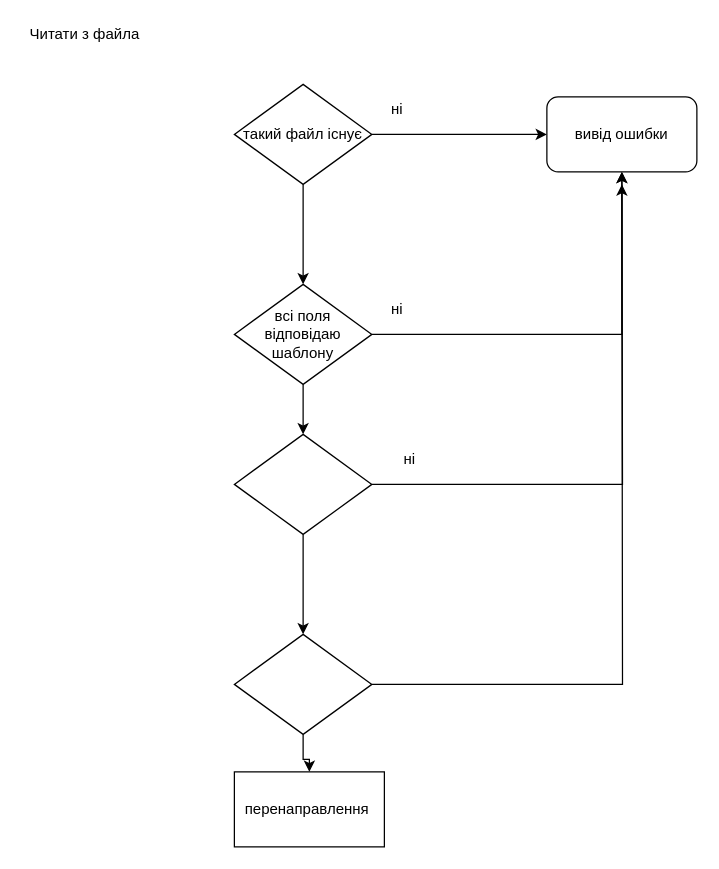
Image size: 719x869. Some labels were removed from this diagram. Here are the shapes that lost their labels. From the top down, the centre of each, then its label:
(x=302, y=483): база даних доступна
(x=302, y=683): записало в базу
